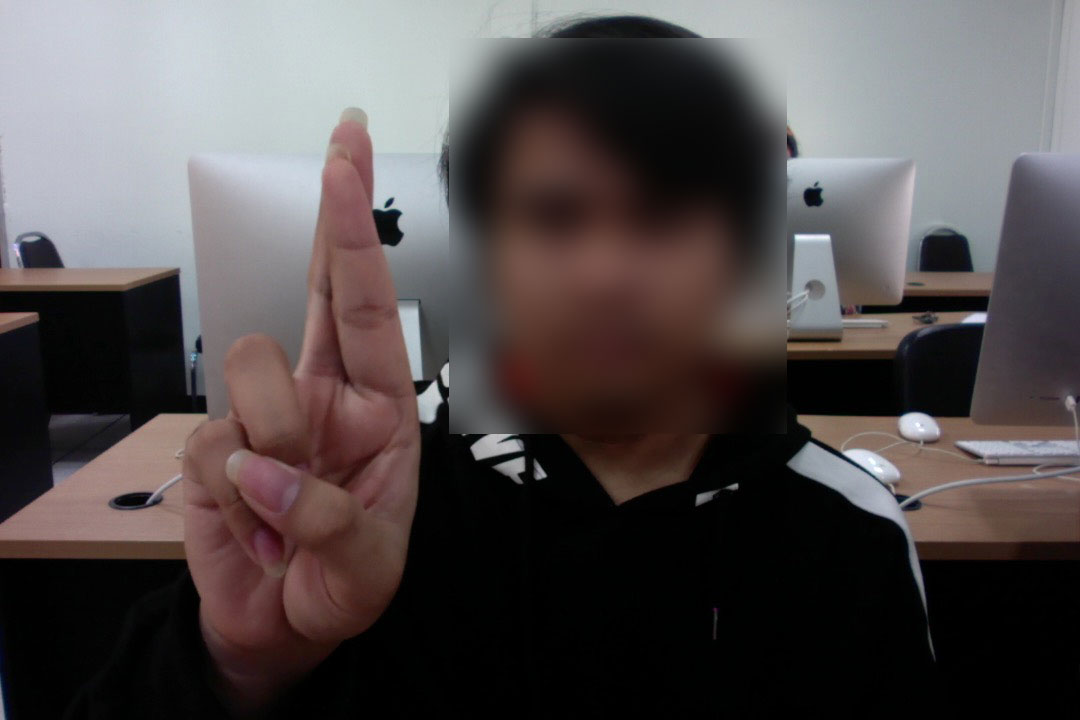rao: (172, 93, 435, 665)
